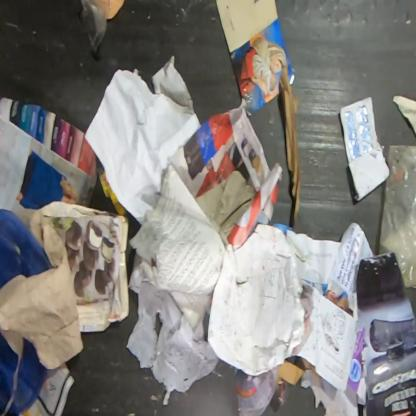cardboard: (28, 201, 130, 332), (0, 98, 98, 212)
rigid_plastic: (0, 208, 53, 415), (82, 0, 108, 56)
soft_plastic: (377, 144, 415, 289)
